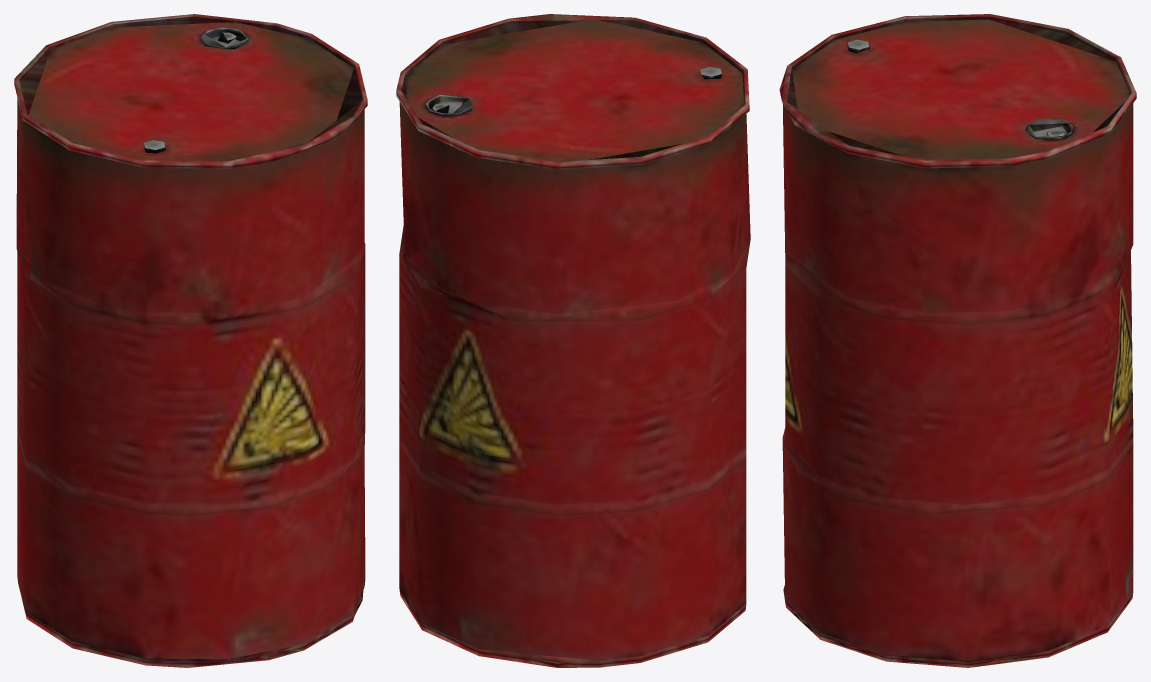
Rendered from tonneau.glb.
3 views of the same model, side by side, from view 1: azimuth 30°, elevation 25°; view 2: azimuth 150°, elevation 25°; view 3: azimuth 270°, elevation 25° (orthographic).
Parts seen in each view (by area): view 1: Barrel_01; view 2: Barrel_01; view 3: Barrel_01.
Part boxes in pixels (box(x1,y1,x2,y2)): Barrel_01: box(14, 14, 367, 667); Barrel_01: box(396, 14, 750, 667); Barrel_01: box(779, 14, 1136, 667).
Bounding box in the file's own units: 0.5522 × 0.8789 × 0.5603.
Materials: 1 (1 with a texture image).
